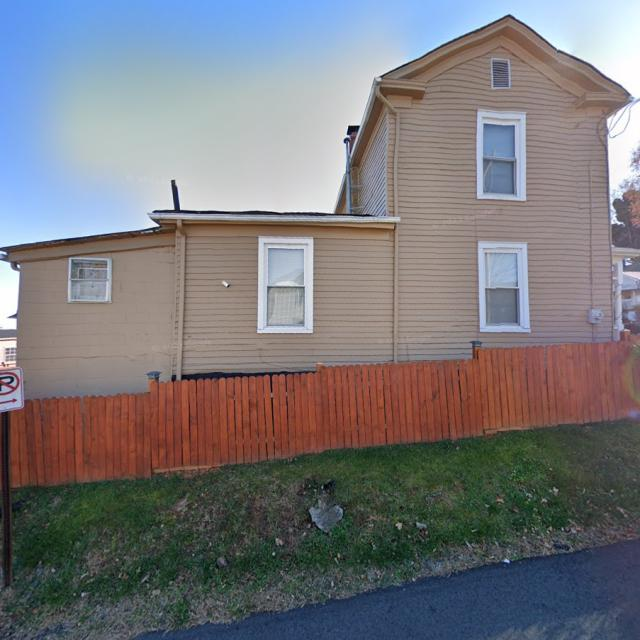House: (3, 13, 640, 396)
